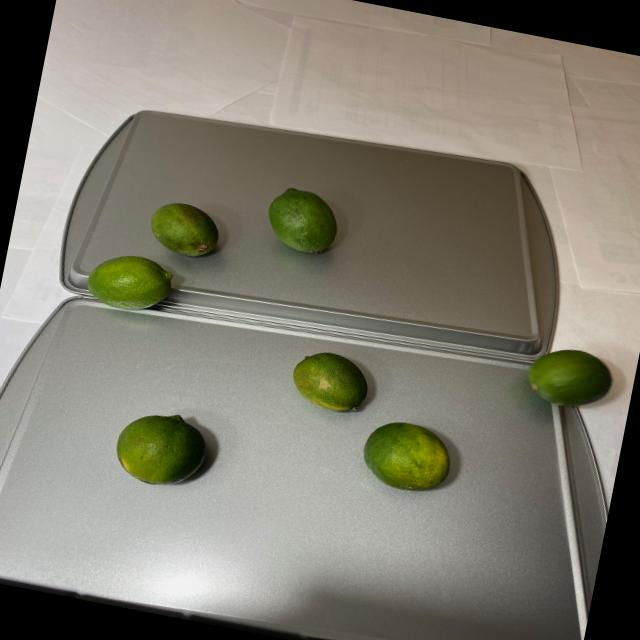lemon: (108, 270, 615, 574), (83, 154, 350, 358)
